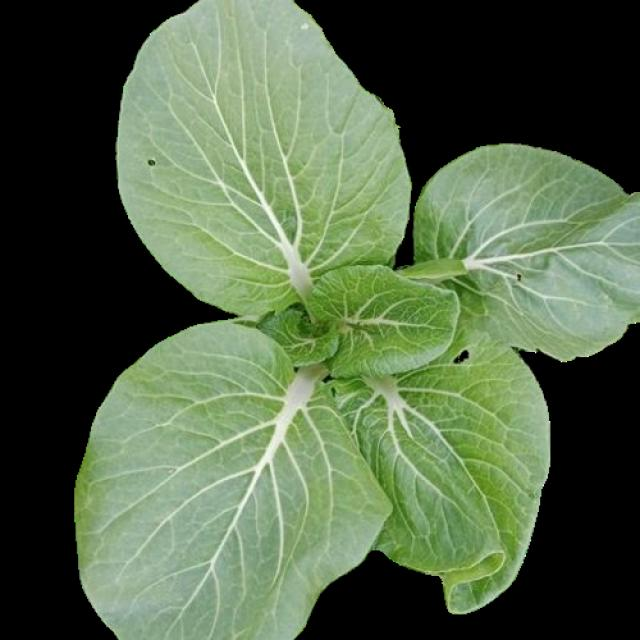mature: (74, 1, 640, 640)
unhealthy: (119, 1, 403, 314), (412, 146, 638, 362)
